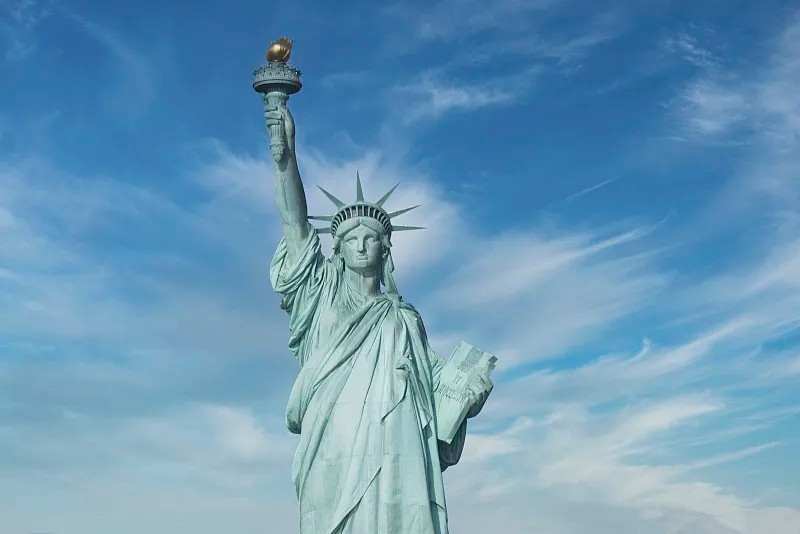SL: (251, 35, 498, 534)
